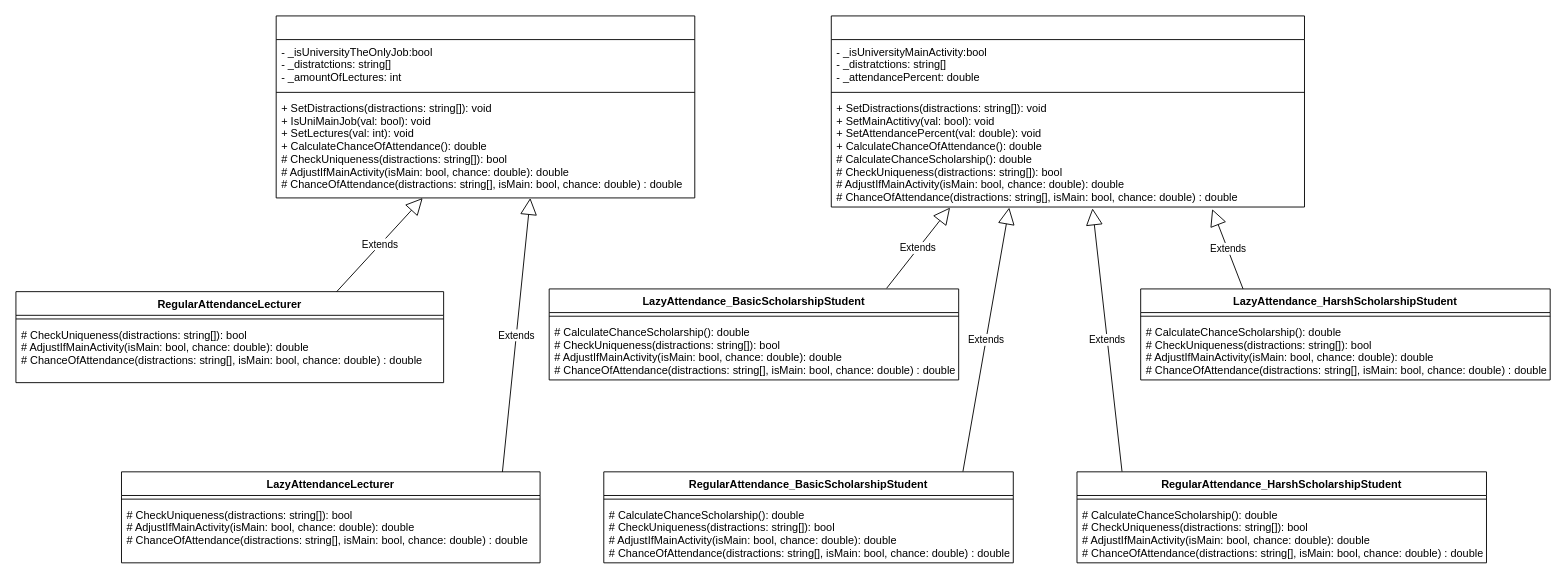
This 1566x581 diagram has some shape labels left out. Each missing label, with the box of its shape:
Lecturer: (275, 15, 695, 198)
Student: (830, 15, 1304, 207)
